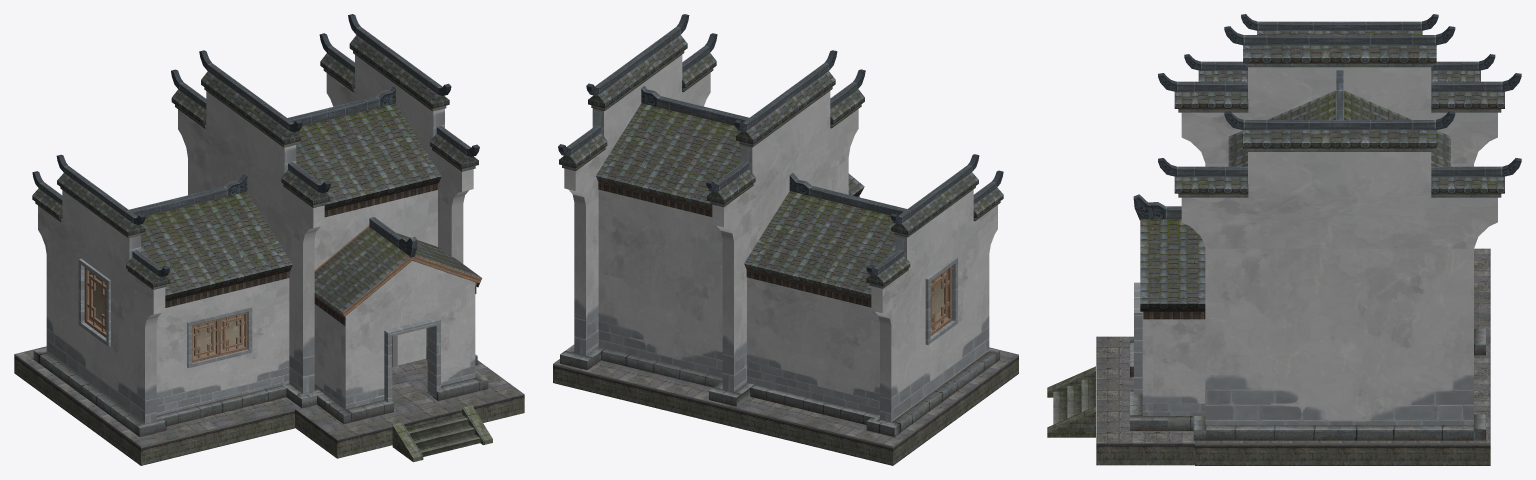
The model's file is house02(1).fbx.
The picture shows the model from 3 angles, left to right: view 1: azimuth 30°, elevation 25°; view 2: azimuth 150°, elevation 25°; view 3: azimuth 270°, elevation 25°; orthographic projection. The views are drawn at different scales.
Parts seen in each view (by area): view 1: Box001, Box217, Box229, Box255, Box207, Box175, Box166, 对象027, Box248, 对象025, Box206, Box200 (+28 smaller); view 2: Box191, Box001, Box229, Box179, Box217, Box175, Box166, Box248, 对象027, Box218, Box249, Box002 (+17 smaller); view 3: Box248, Box229, Box217, 对象027, Box200, Box238, 对象025, Box218, Box249, Box166, Box223, Box254 (+21 smaller).
Boxes of the visible parts, x1,y1,x2,y2 form: Box001: (38,190,165,423); Box217: (178,91,324,393); Box229: (14,346,503,465); Box255: (341,261,475,409); Box207: (156,278,289,415); Box175: (140,191,292,301); Box166: (296,103,441,210); 对象027: (33,347,488,436); Box248: (326,55,473,263); 对象025: (316,379,524,458); Box206: (314,190,437,365); Box200: (314,227,481,318); Box191: (598,189,722,376); Box001: (871,189,997,422); Box229: (553,347,1018,465); Box179: (747,277,879,414); Box217: (712,91,858,391); Box175: (744,191,895,300); Box166: (596,103,741,209); Box248: (564,55,710,355); 对象027: (560,344,999,436); Box218: (736,71,835,147); Box249: (588,35,687,110); Box002: (891,172,978,237); Box248: (1181,152,1497,425); Box229: (1144,248,1490,465); Box217: (1181,67,1497,166); 对象027: (1130,328,1485,440); Box200: (1140,219,1205,311); Box238: (1153,319,1205,415); 对象025: (1096,336,1144,465); Box218: (1243,45,1436,67); Box249: (1243,130,1436,151); Box166: (1228,90,1450,166); Box223: (1224,26,1455,45); Box254: (1224,111,1455,130).
Size of the model in its own units: 1081 by 888 by 1112.
